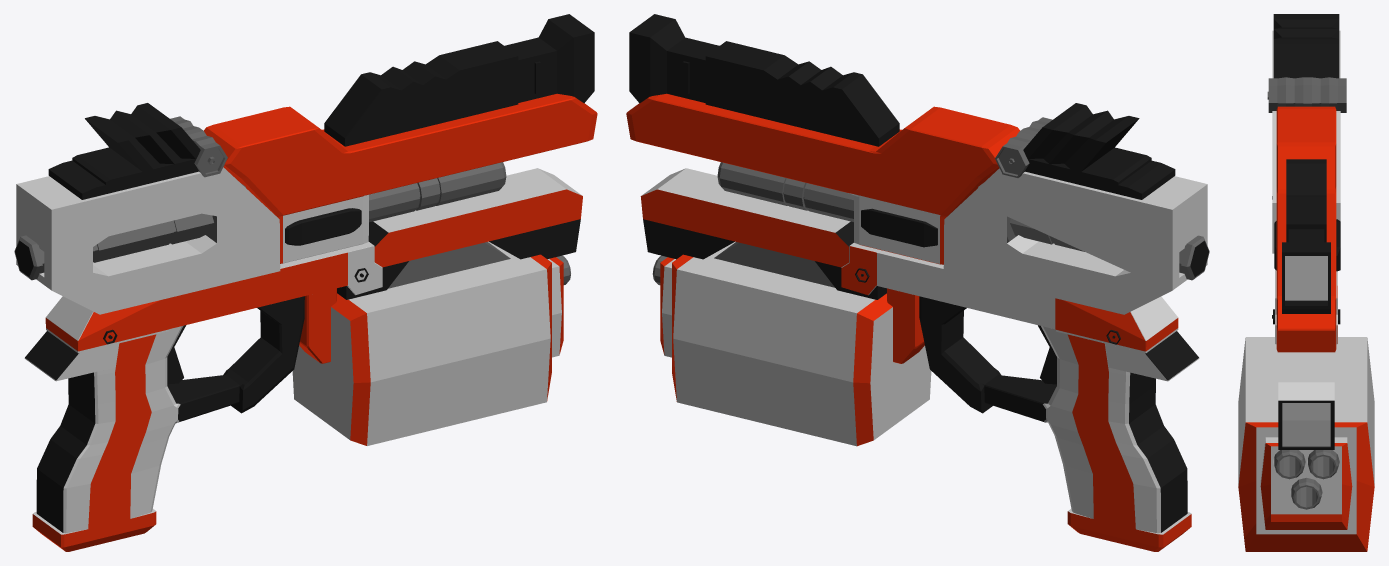
Rendered from gun_kesz.fbx.
3 renders of one model, left to right at view 1: azimuth 30°, elevation 25°; view 2: azimuth 150°, elevation 25°; view 3: azimuth 270°, elevation 25°, orthographic. The views are drawn at different scales.
Visible parts, largest first — view 1: Cube.004; view 2: Cube.004; view 3: Cube.004.
Boxes of the visible parts, x1,y1,x2,y2 form: Cube.004: [14, 14, 597, 551]; Cube.004: [626, 14, 1209, 551]; Cube.004: [1238, 14, 1374, 551].
Bounding box in the file's own units: 203 × 139 × 44.05.
